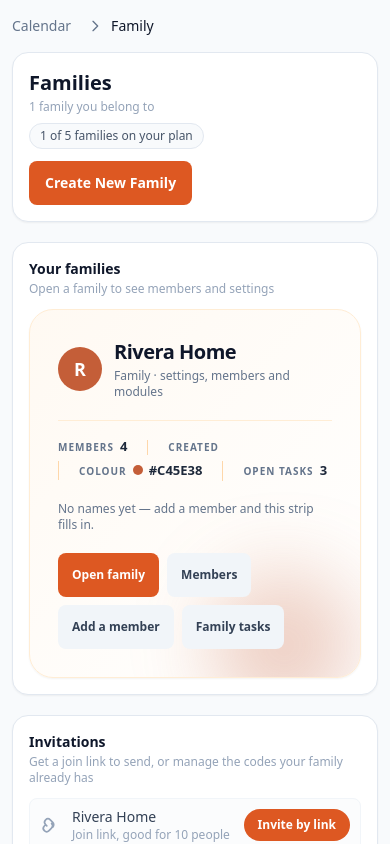
Test: families list — invite by link is on the page (issue 091) › acknowledges in the click tick, before the request answers
What coordinates should you click on to do the following:
click the button "Invite by link"
I would click on:
 (297, 825)
Its box is [244, 809, 350, 841].
(page scrolled)
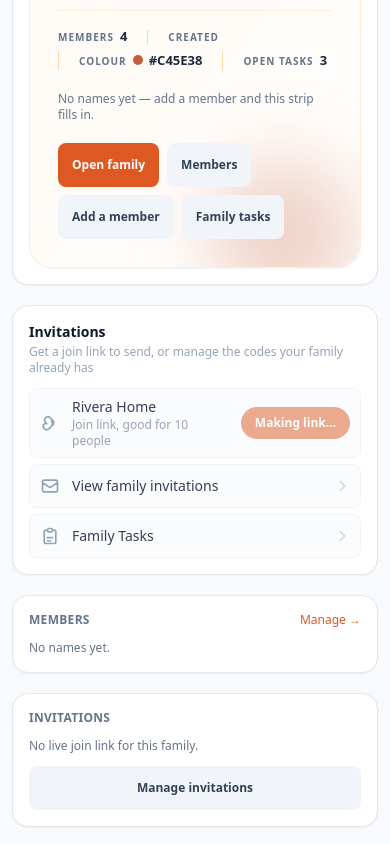
Expected: the button named "invite by link" shows "…", [241, 407, 350, 439]
